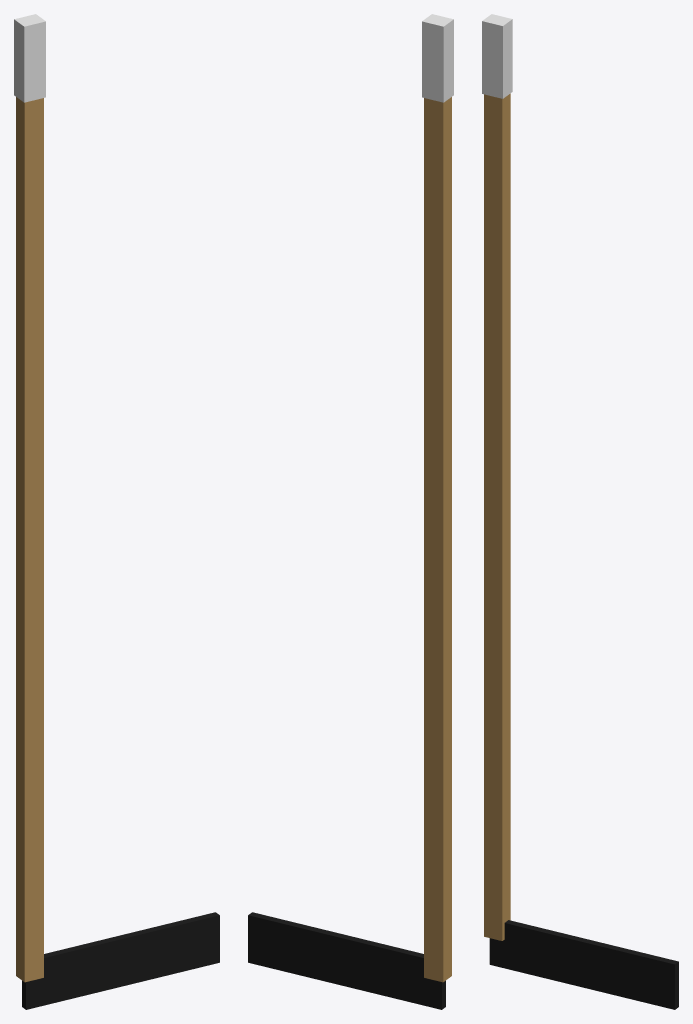
Rendered from palo.obj.
3 renders of one model, left to right at view 1: azimuth 30°, elevation 25°; view 2: azimuth 150°, elevation 25°; view 3: azimuth 330°, elevation 25°, orthographic. The views are drawn at different scales.
Visible parts, largest first — view 1: palo; view 2: palo; view 3: palo.
Boxes of the visible parts, bbox=[...] form: palo: bbox=[14, 14, 219, 1009]; palo: bbox=[248, 14, 453, 1009]; palo: bbox=[482, 14, 678, 1009].
Bounding box in the file's own units: 0.328 × 1.56 × 0.029.
1 material, 1 textured.
